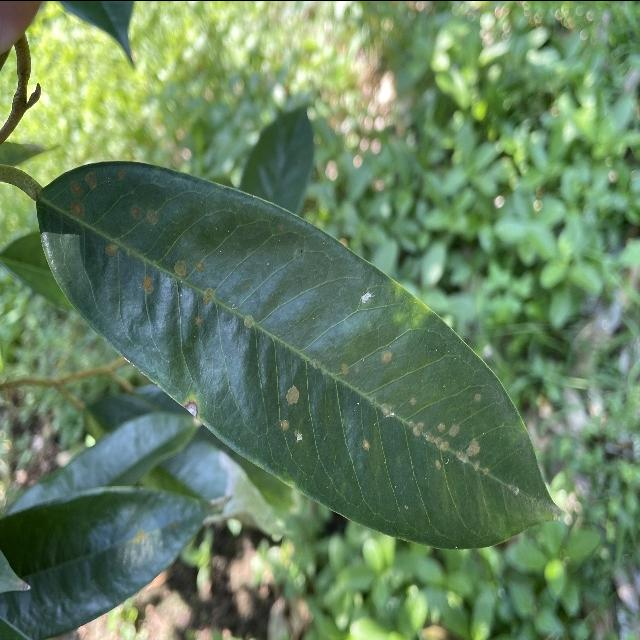Algal Leaf Spot: (29, 151, 565, 561)
